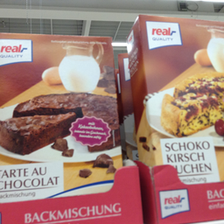cake: (2, 34, 118, 204), (125, 16, 224, 182)
